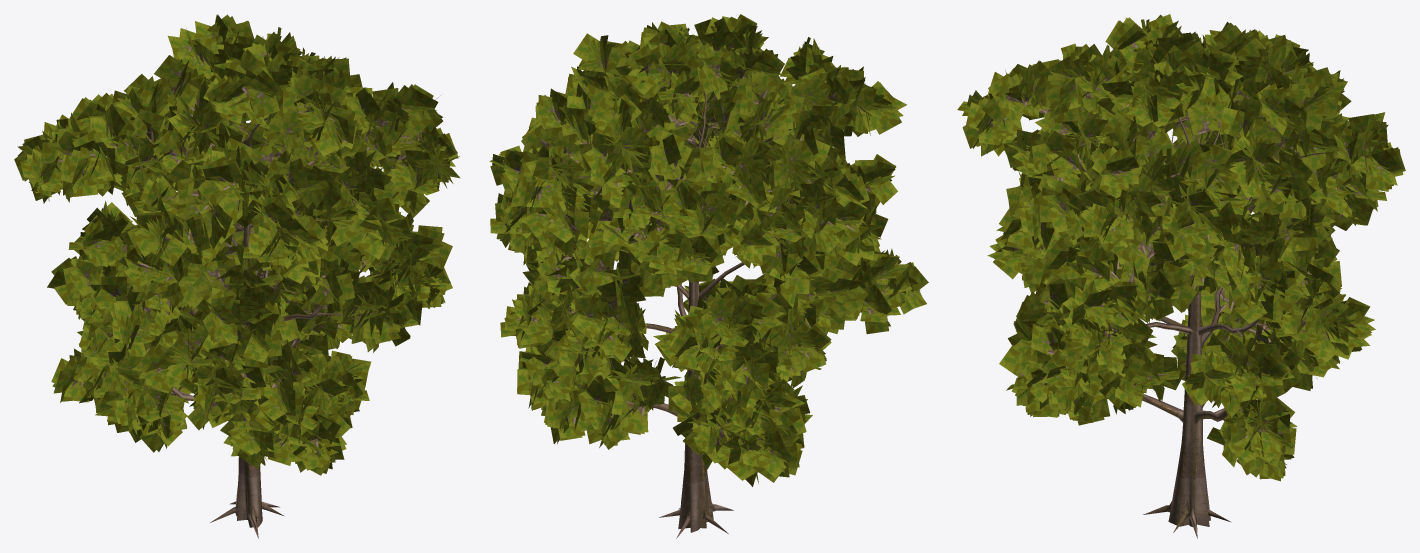
Rendered from maple-green-balanced.gltf.
3 renders of one model, left to right at view 1: azimuth 30°, elevation 25°; view 2: azimuth 150°, elevation 25°; view 3: azimuth 270°, elevation 25°, orthographic. The views are drawn at different scales.
Visible parts, largest first — view 1: Sugar Maple balanced Green; view 2: Sugar Maple balanced Green; view 3: Sugar Maple balanced Green.
Part boxes in pixels (x1=…): Sugar Maple balanced Green: x1=14, y1=14, x2=460, y2=538; Sugar Maple balanced Green: x1=489, y1=14, x2=928, y2=538; Sugar Maple balanced Green: x1=957, y1=14, x2=1405, y2=538.
Size of the model in its own units: 769 by 961 by 797.
Materials: 2 (2 with a texture image).
